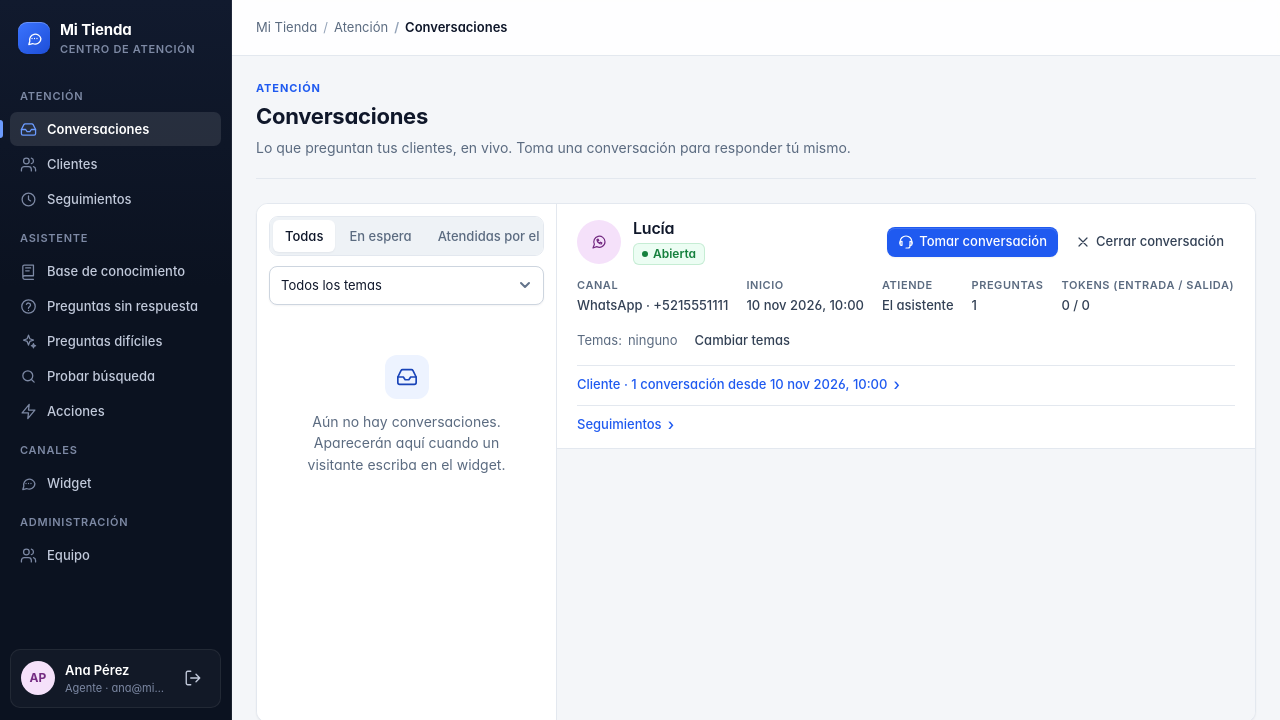
Test: Follow-ups › schedules a follow-up from a template in the conversation
Click the heading "Seguimientos" at (626, 424), box [577,414,674,434]
(page scrolled)
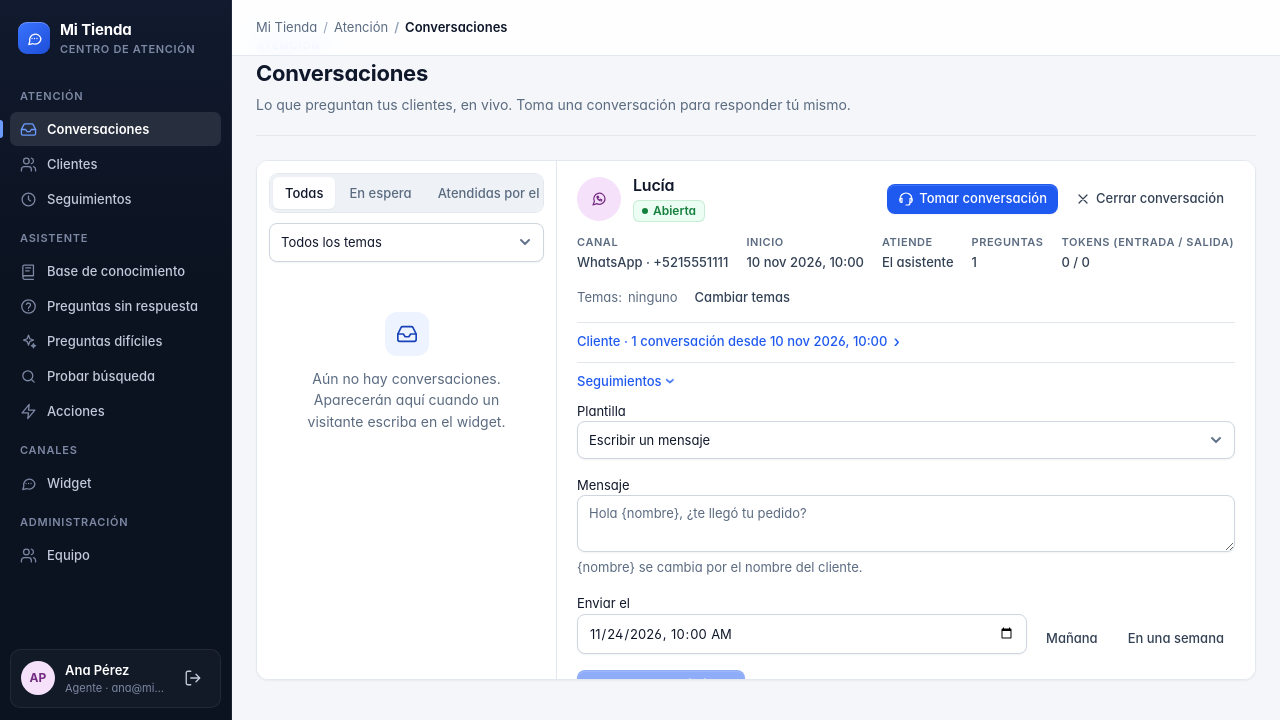
Select "Pedido entregado" in the dropdown labelled "Plantilla" at (906, 440), box [577,421,1235,459]
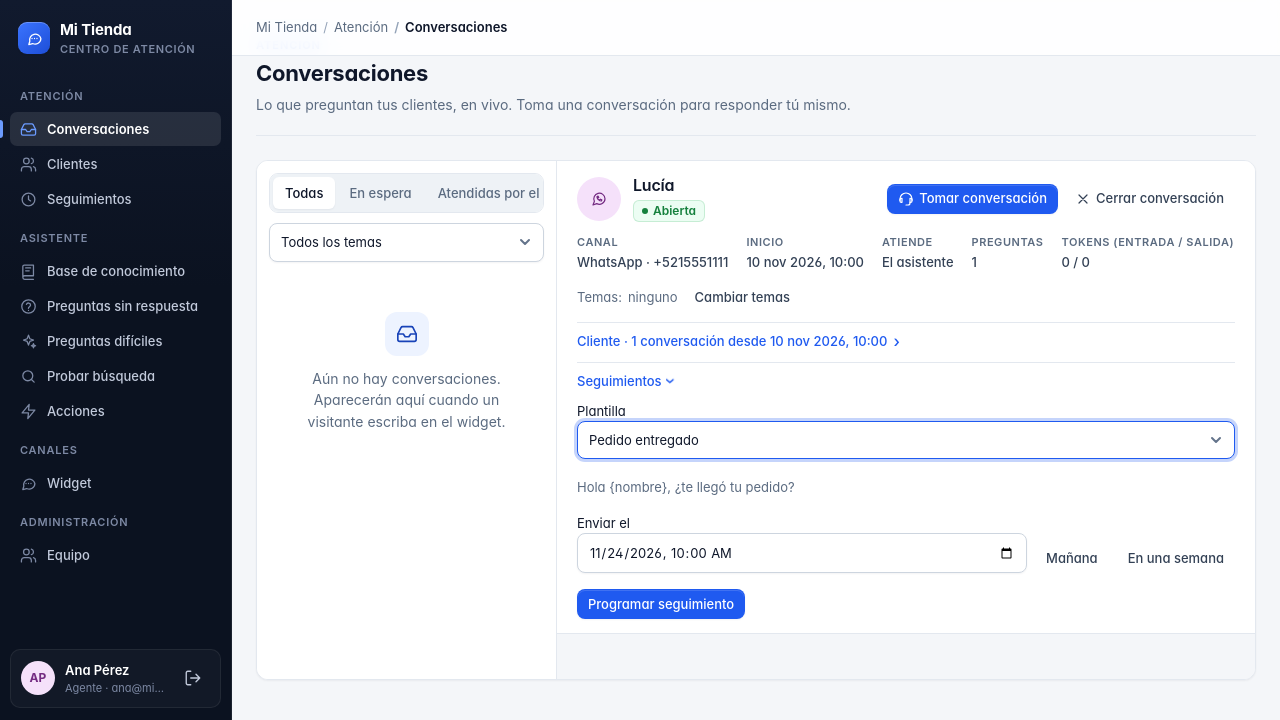
Result: the text "Hola {nombre}, ¿te llegó tu pedido?" is shown at [577,479,795,495]
Click the button "En una semana" at (1176, 558), box [1117,543,1235,573]
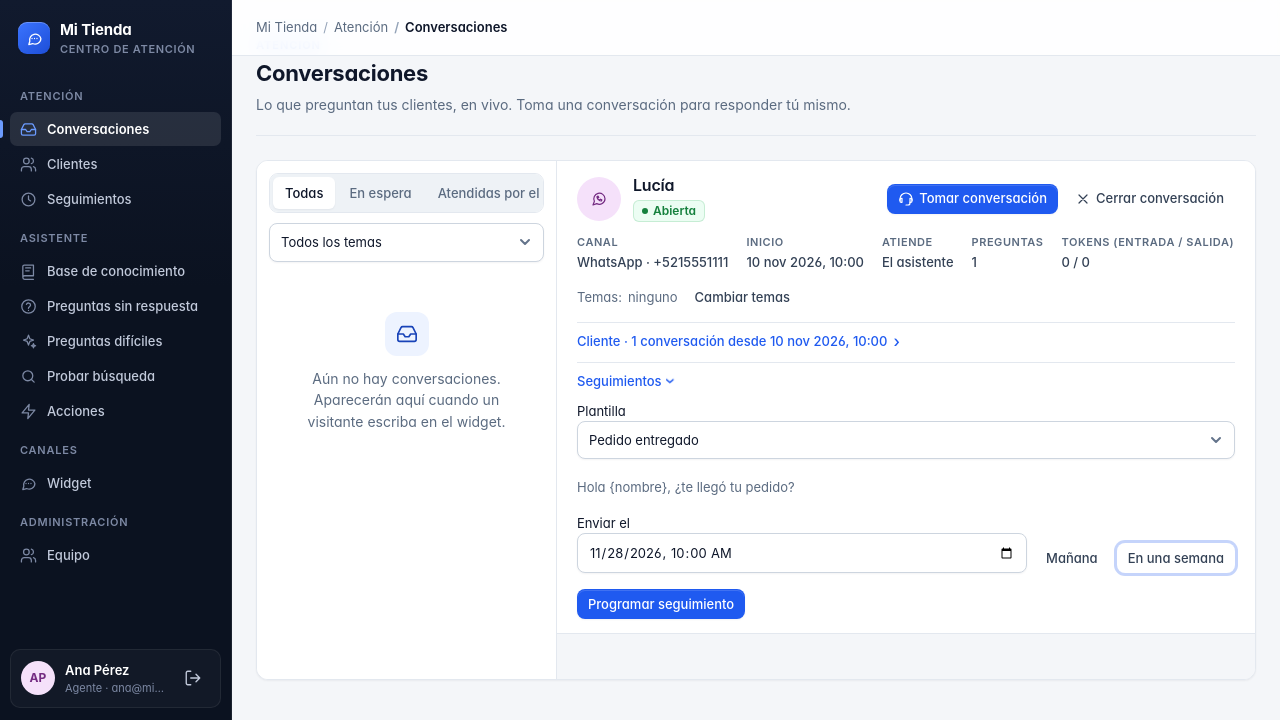
Click the button "Programar seguimiento" at (661, 604), box [577,589,745,619]
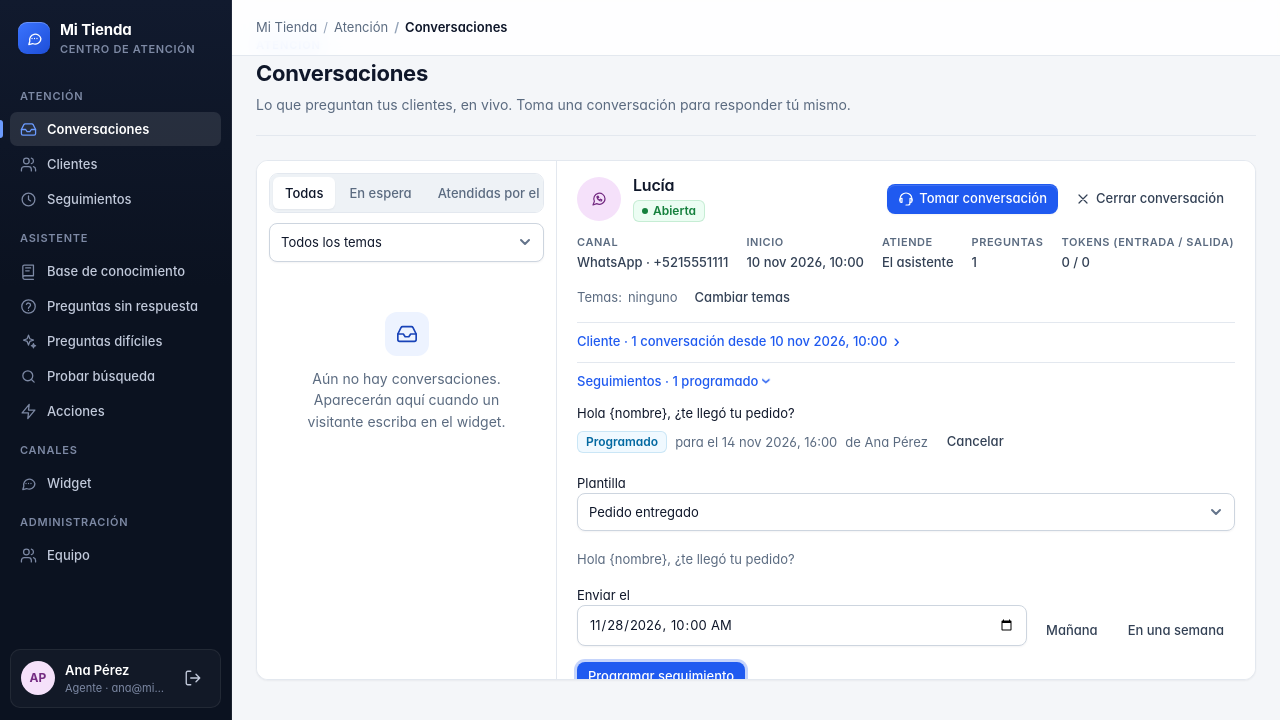
Result: the heading "Seguimientos · 1 programado" is shown at [577,371,771,391]
